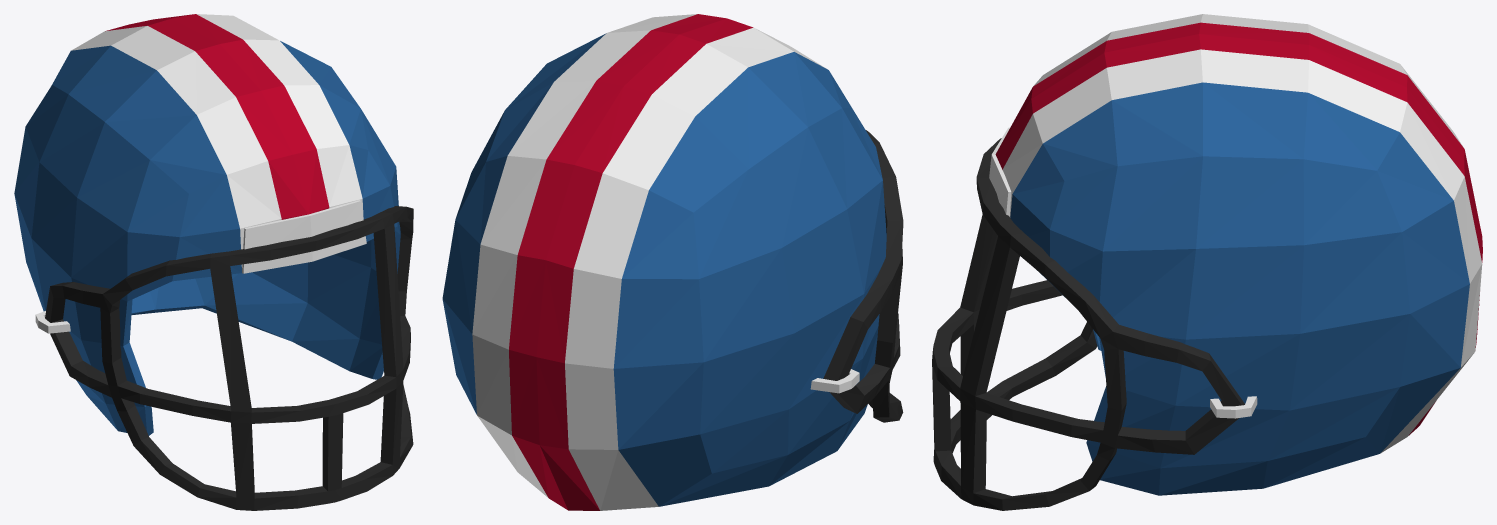
The model's file is dCmNk08B6gs.glb.
3 views of the same model, side by side, from view 1: azimuth 30°, elevation 25°; view 2: azimuth 150°, elevation 25°; view 3: azimuth 270°, elevation 25° (orthographic). The views are drawn at different scales.
Visible parts, largest first — view 1: Node; view 2: Node; view 3: Node.
Part boxes in pixels (x1=…): Node: x1=14, y1=14, x2=413, y2=510; Node: x1=442, y1=14, x2=903, y2=510; Node: x1=932, y1=14, x2=1482, y2=510.
Bounding box in the file's own units: 0.9281 × 1 × 1.17.
